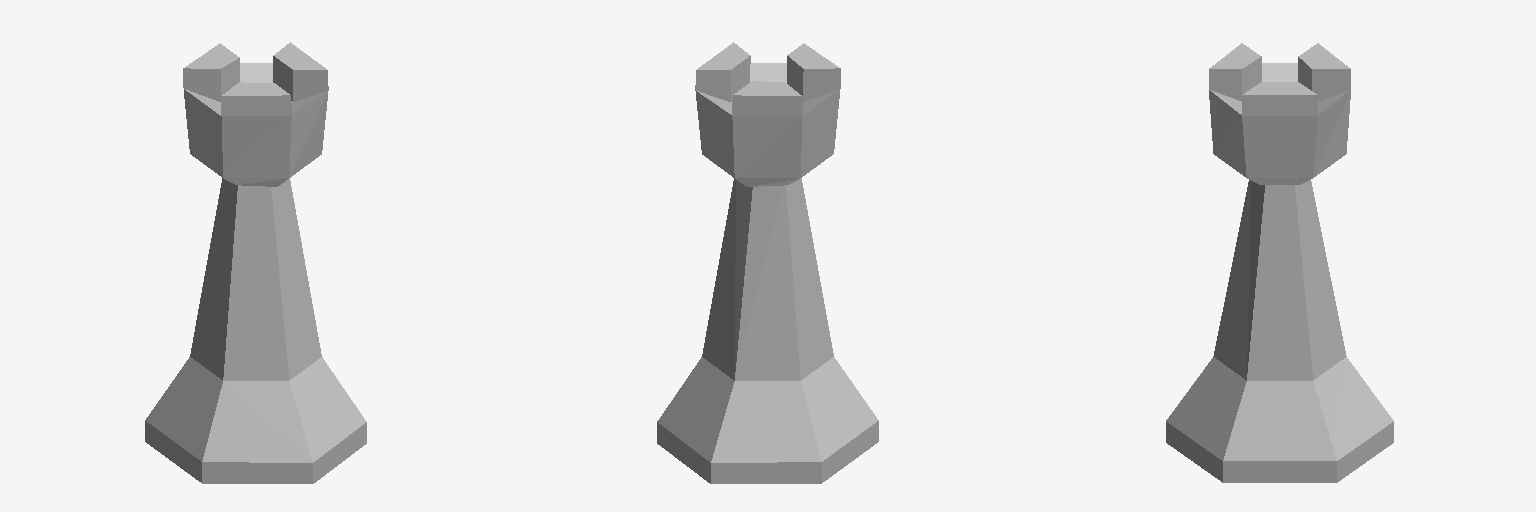
Rendered from RookW.obj.
3 renders of one model, left to right at view 1: azimuth 30°, elevation 25°; view 2: azimuth 150°, elevation 25°; view 3: azimuth 270°, elevation 25°, orthographic.
Parts seen in each view (by area): view 1: RookW, RookW.001; view 2: RookW, RookW.001; view 3: RookW, RookW.001.
Boxes of the visible parts, box(x1,y1,x2,y2) form: RookW: box(145, 178, 366, 483); RookW.001: box(183, 42, 328, 186); RookW: box(657, 178, 878, 483); RookW.001: box(695, 42, 840, 186); RookW: box(1166, 180, 1393, 482); RookW.001: box(1209, 43, 1350, 184).
Size of the model in its own units: 1.89 by 4.1 by 2.27.